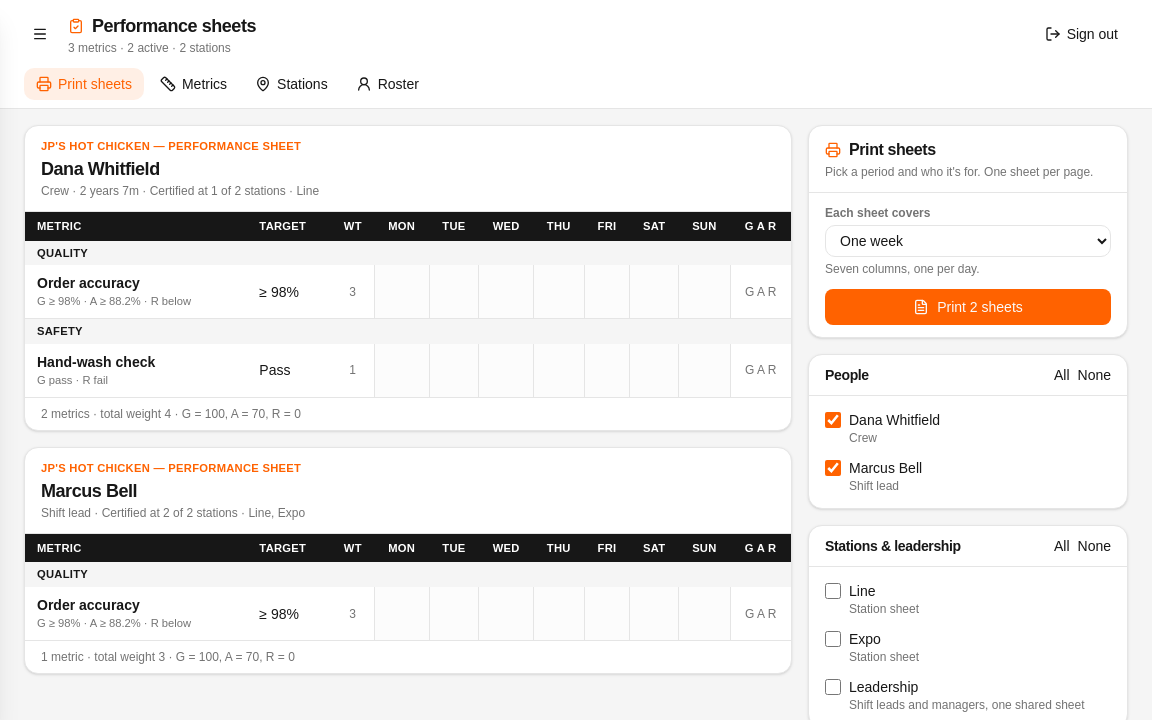
the metric library › previews the printed row while the metric is being written
The width and height of the screenshot is (1152, 720).
Click the button "Metrics" at (193, 84), box [148,68,239,100]
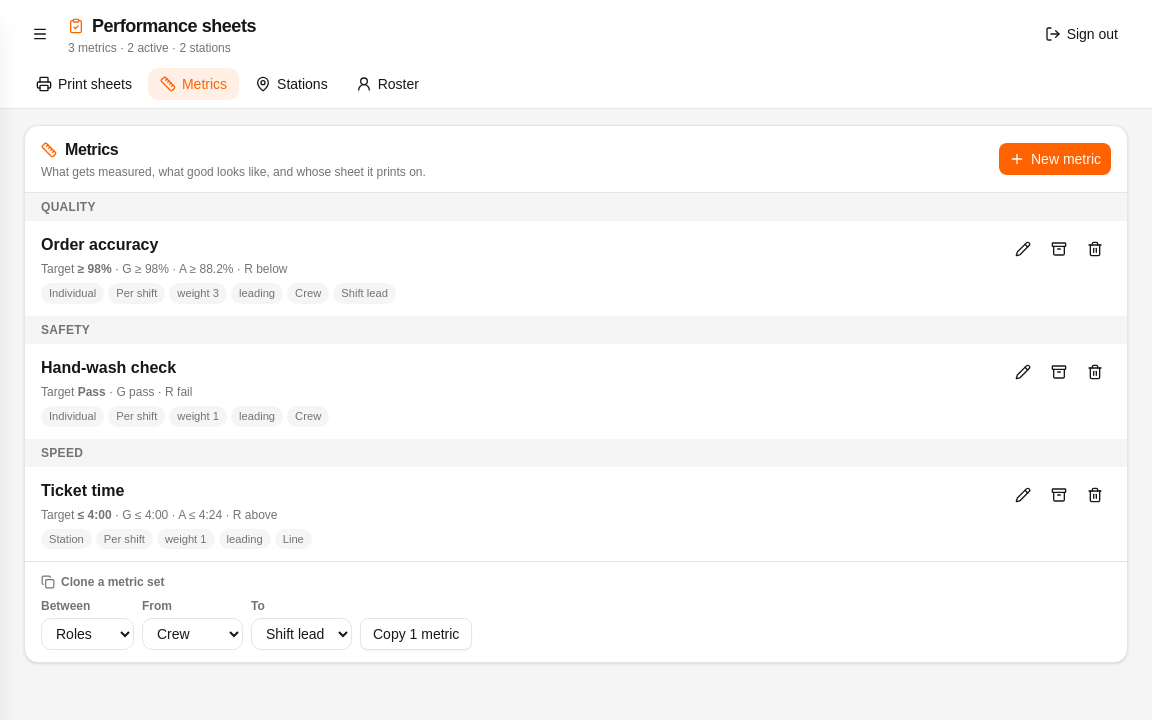
Click the button "New metric" at (1055, 159), box [999,143,1111,175]
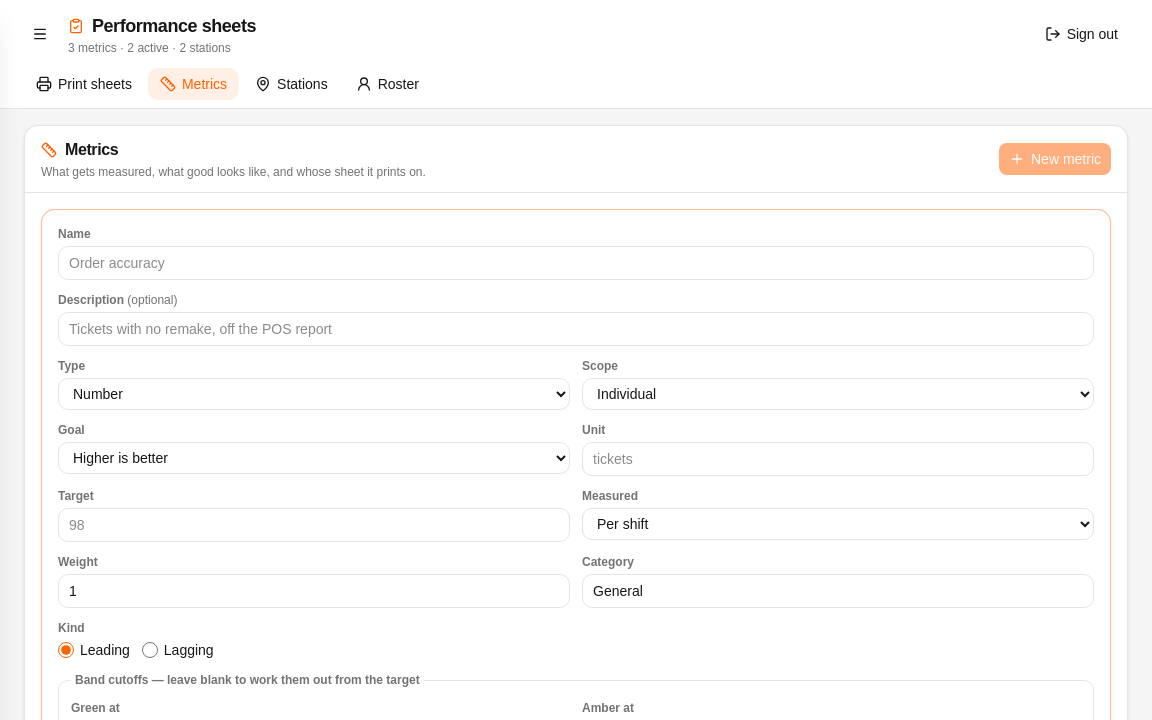
Type "Upsell rate" into the field labelled "Name" at (576, 263), box [58,246,1094,280]
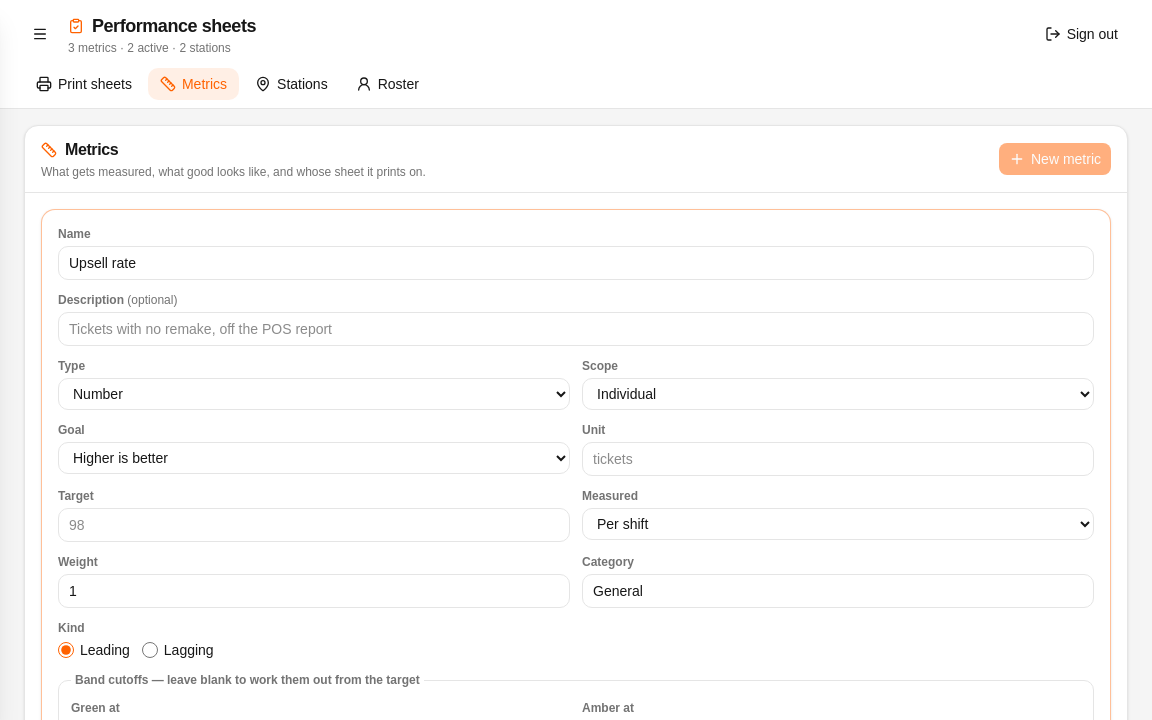
Select "Percentage" in the dropdown labelled "Type" at (314, 394), box [58,378,570,410]
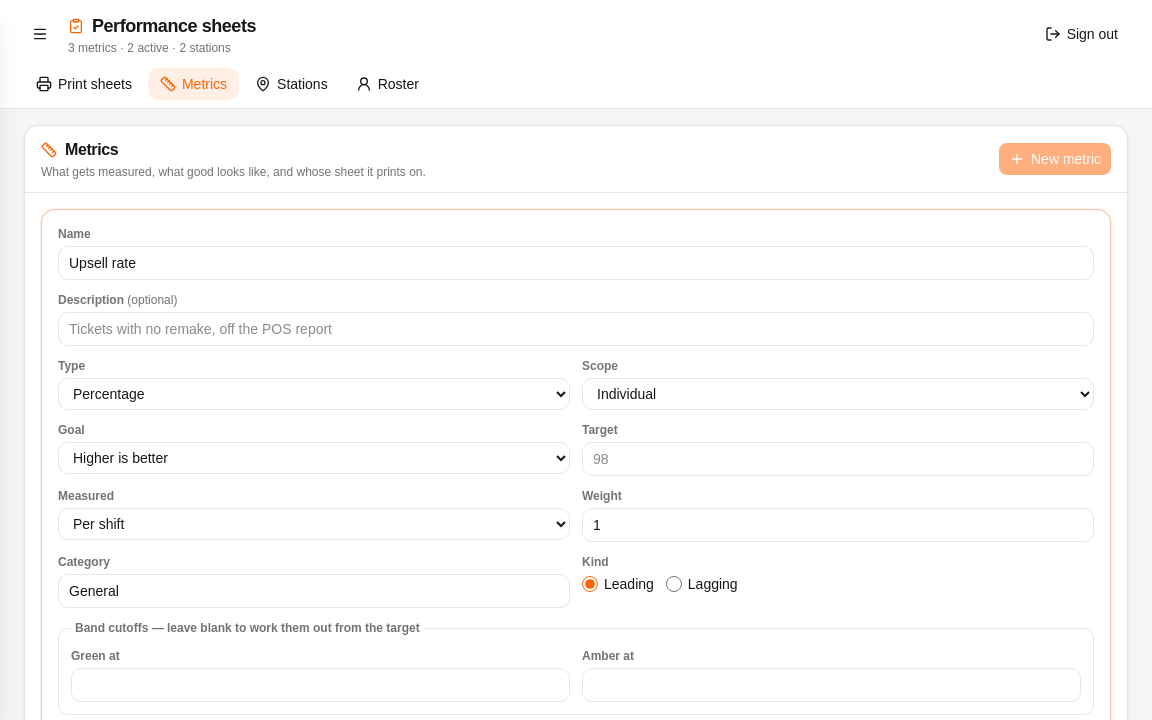
Type "30" into the field labelled "Target" at (838, 459), box [582,442,1094,476]
(page scrolled)
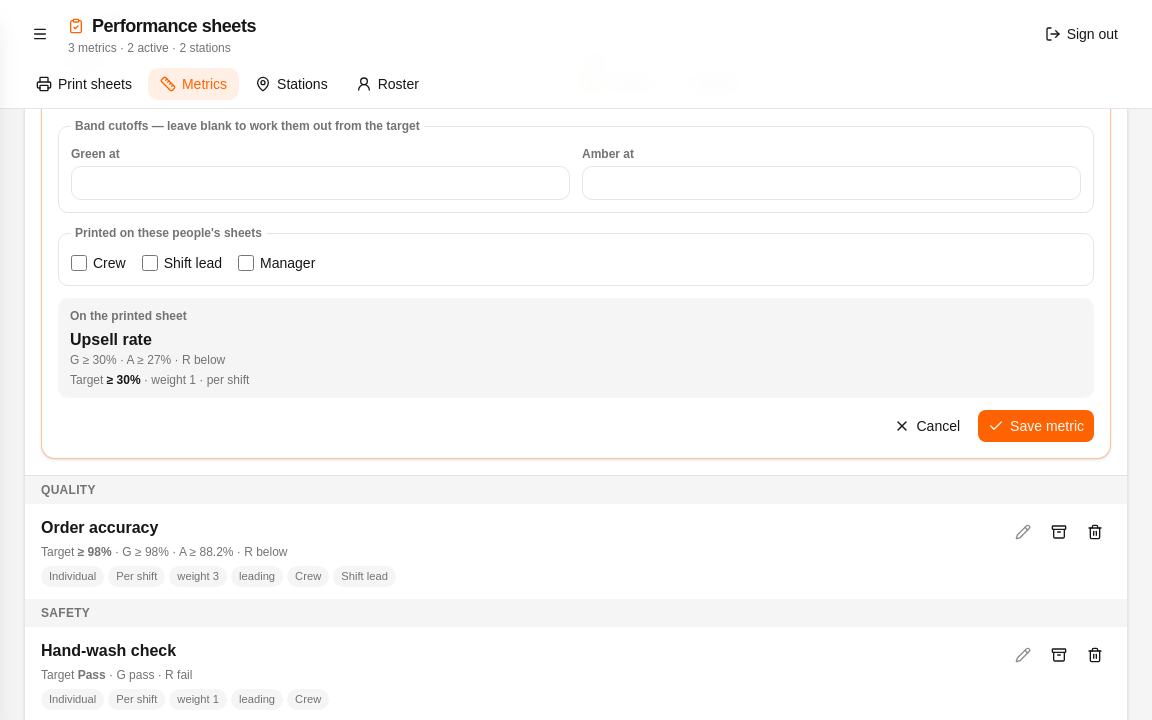
Check: the text "G ≥ 30% · A ≥ 27% · R below" is shown, box [70,353,225,367]
